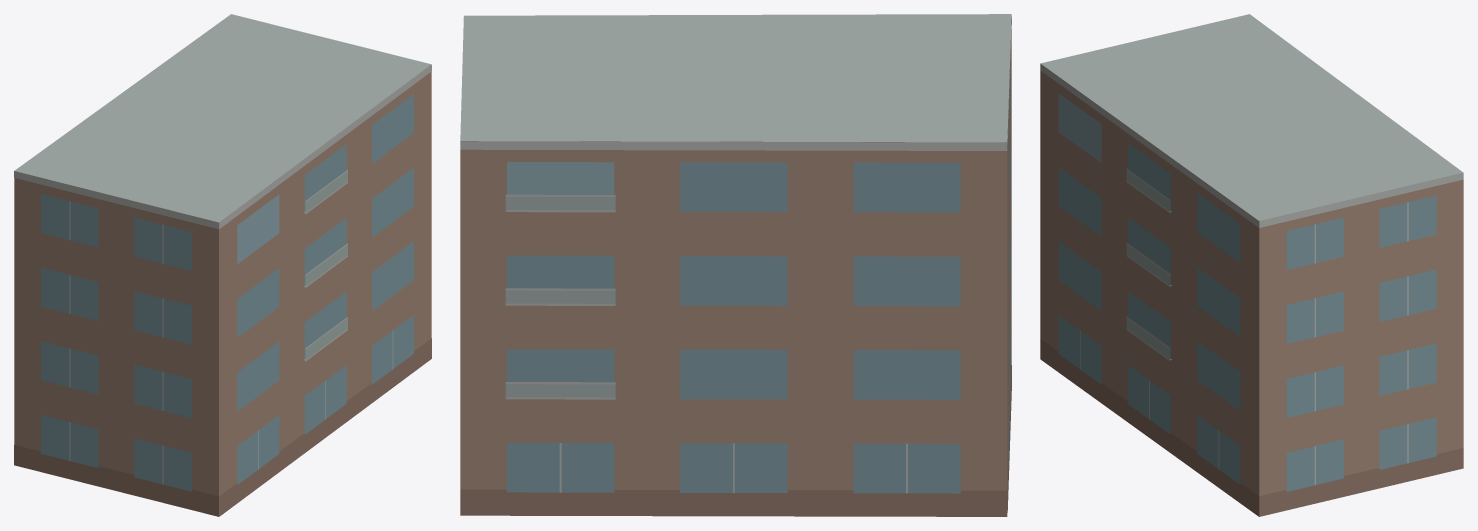
The model's file is survey-upis-32791284.glb.
The picture shows the model from 3 angles, left to right: view 1: azimuth 30°, elevation 25°; view 2: azimuth 150°, elevation 25°; view 3: azimuth 270°, elevation 25°; orthographic projection. The views are drawn at different scales.
Visible parts, largest first — view 1: survey-upis-32791284.tmp; view 2: survey-upis-32791284.tmp; view 3: survey-upis-32791284.tmp.
Boxes of the visible parts, x1=… form: survey-upis-32791284.tmp: x1=14, y1=14, x2=431, y2=516; survey-upis-32791284.tmp: x1=460, y1=14, x2=1011, y2=516; survey-upis-32791284.tmp: x1=1040, y1=14, x2=1463, y2=516.
Size of the model in its own units: 15.78 by 10.5 by 13.63.
